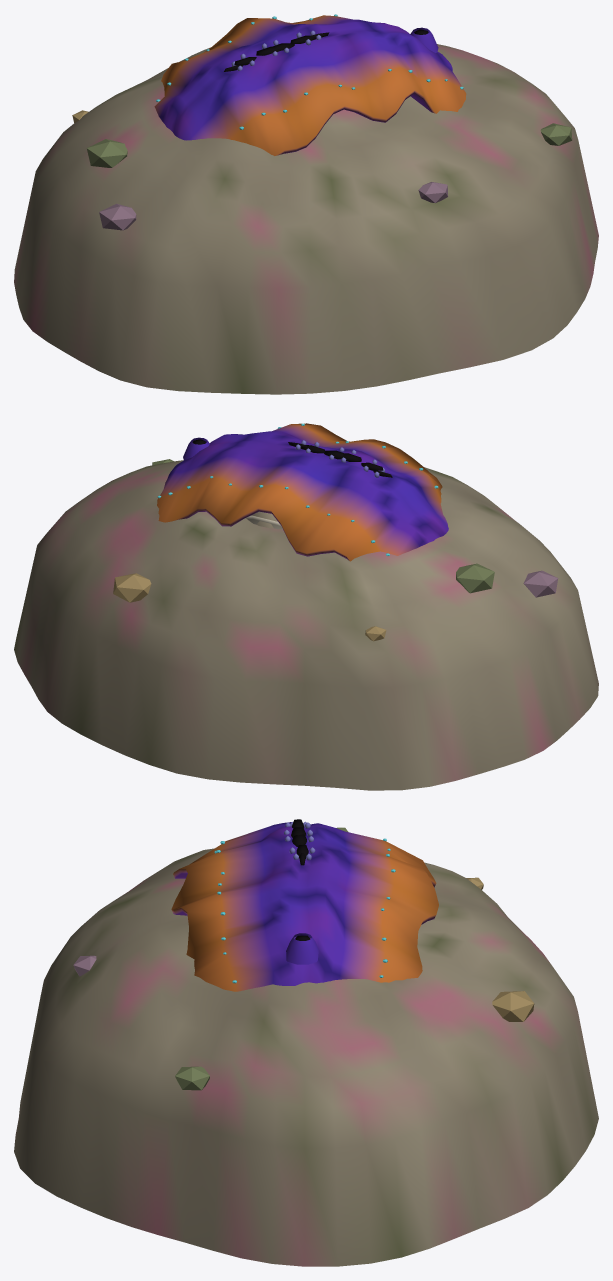
File: CrocusClam.fbx
3 views of the same model, one above another, from view 1: azimuth 30°, elevation 25°; view 2: azimuth 150°, elevation 25°; view 3: azimuth 270°, elevation 25° (orthographic). The views are drawn at different scales.
Parts seen in each view (by area): view 1: CrocusClam; view 2: CrocusClam; view 3: CrocusClam.
Boxes of the visible parts, x1,y1,x2,y2 form: CrocusClam: (14, 14, 598, 394); CrocusClam: (14, 423, 598, 790); CrocusClam: (14, 819, 598, 1266).
Bounding box in the file's own units: 1.86 × 0.8708 × 1.6.
